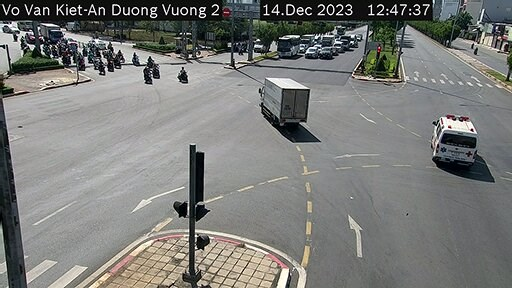car: (434, 108, 480, 169), (277, 33, 300, 65), (306, 44, 315, 66), (323, 34, 333, 53), (321, 47, 332, 63), (333, 41, 344, 55)
motorbike: (176, 63, 191, 83), (142, 66, 153, 86), (151, 64, 164, 79), (143, 56, 156, 66), (131, 52, 137, 69)
truck: (258, 74, 310, 134), (303, 35, 316, 51)
